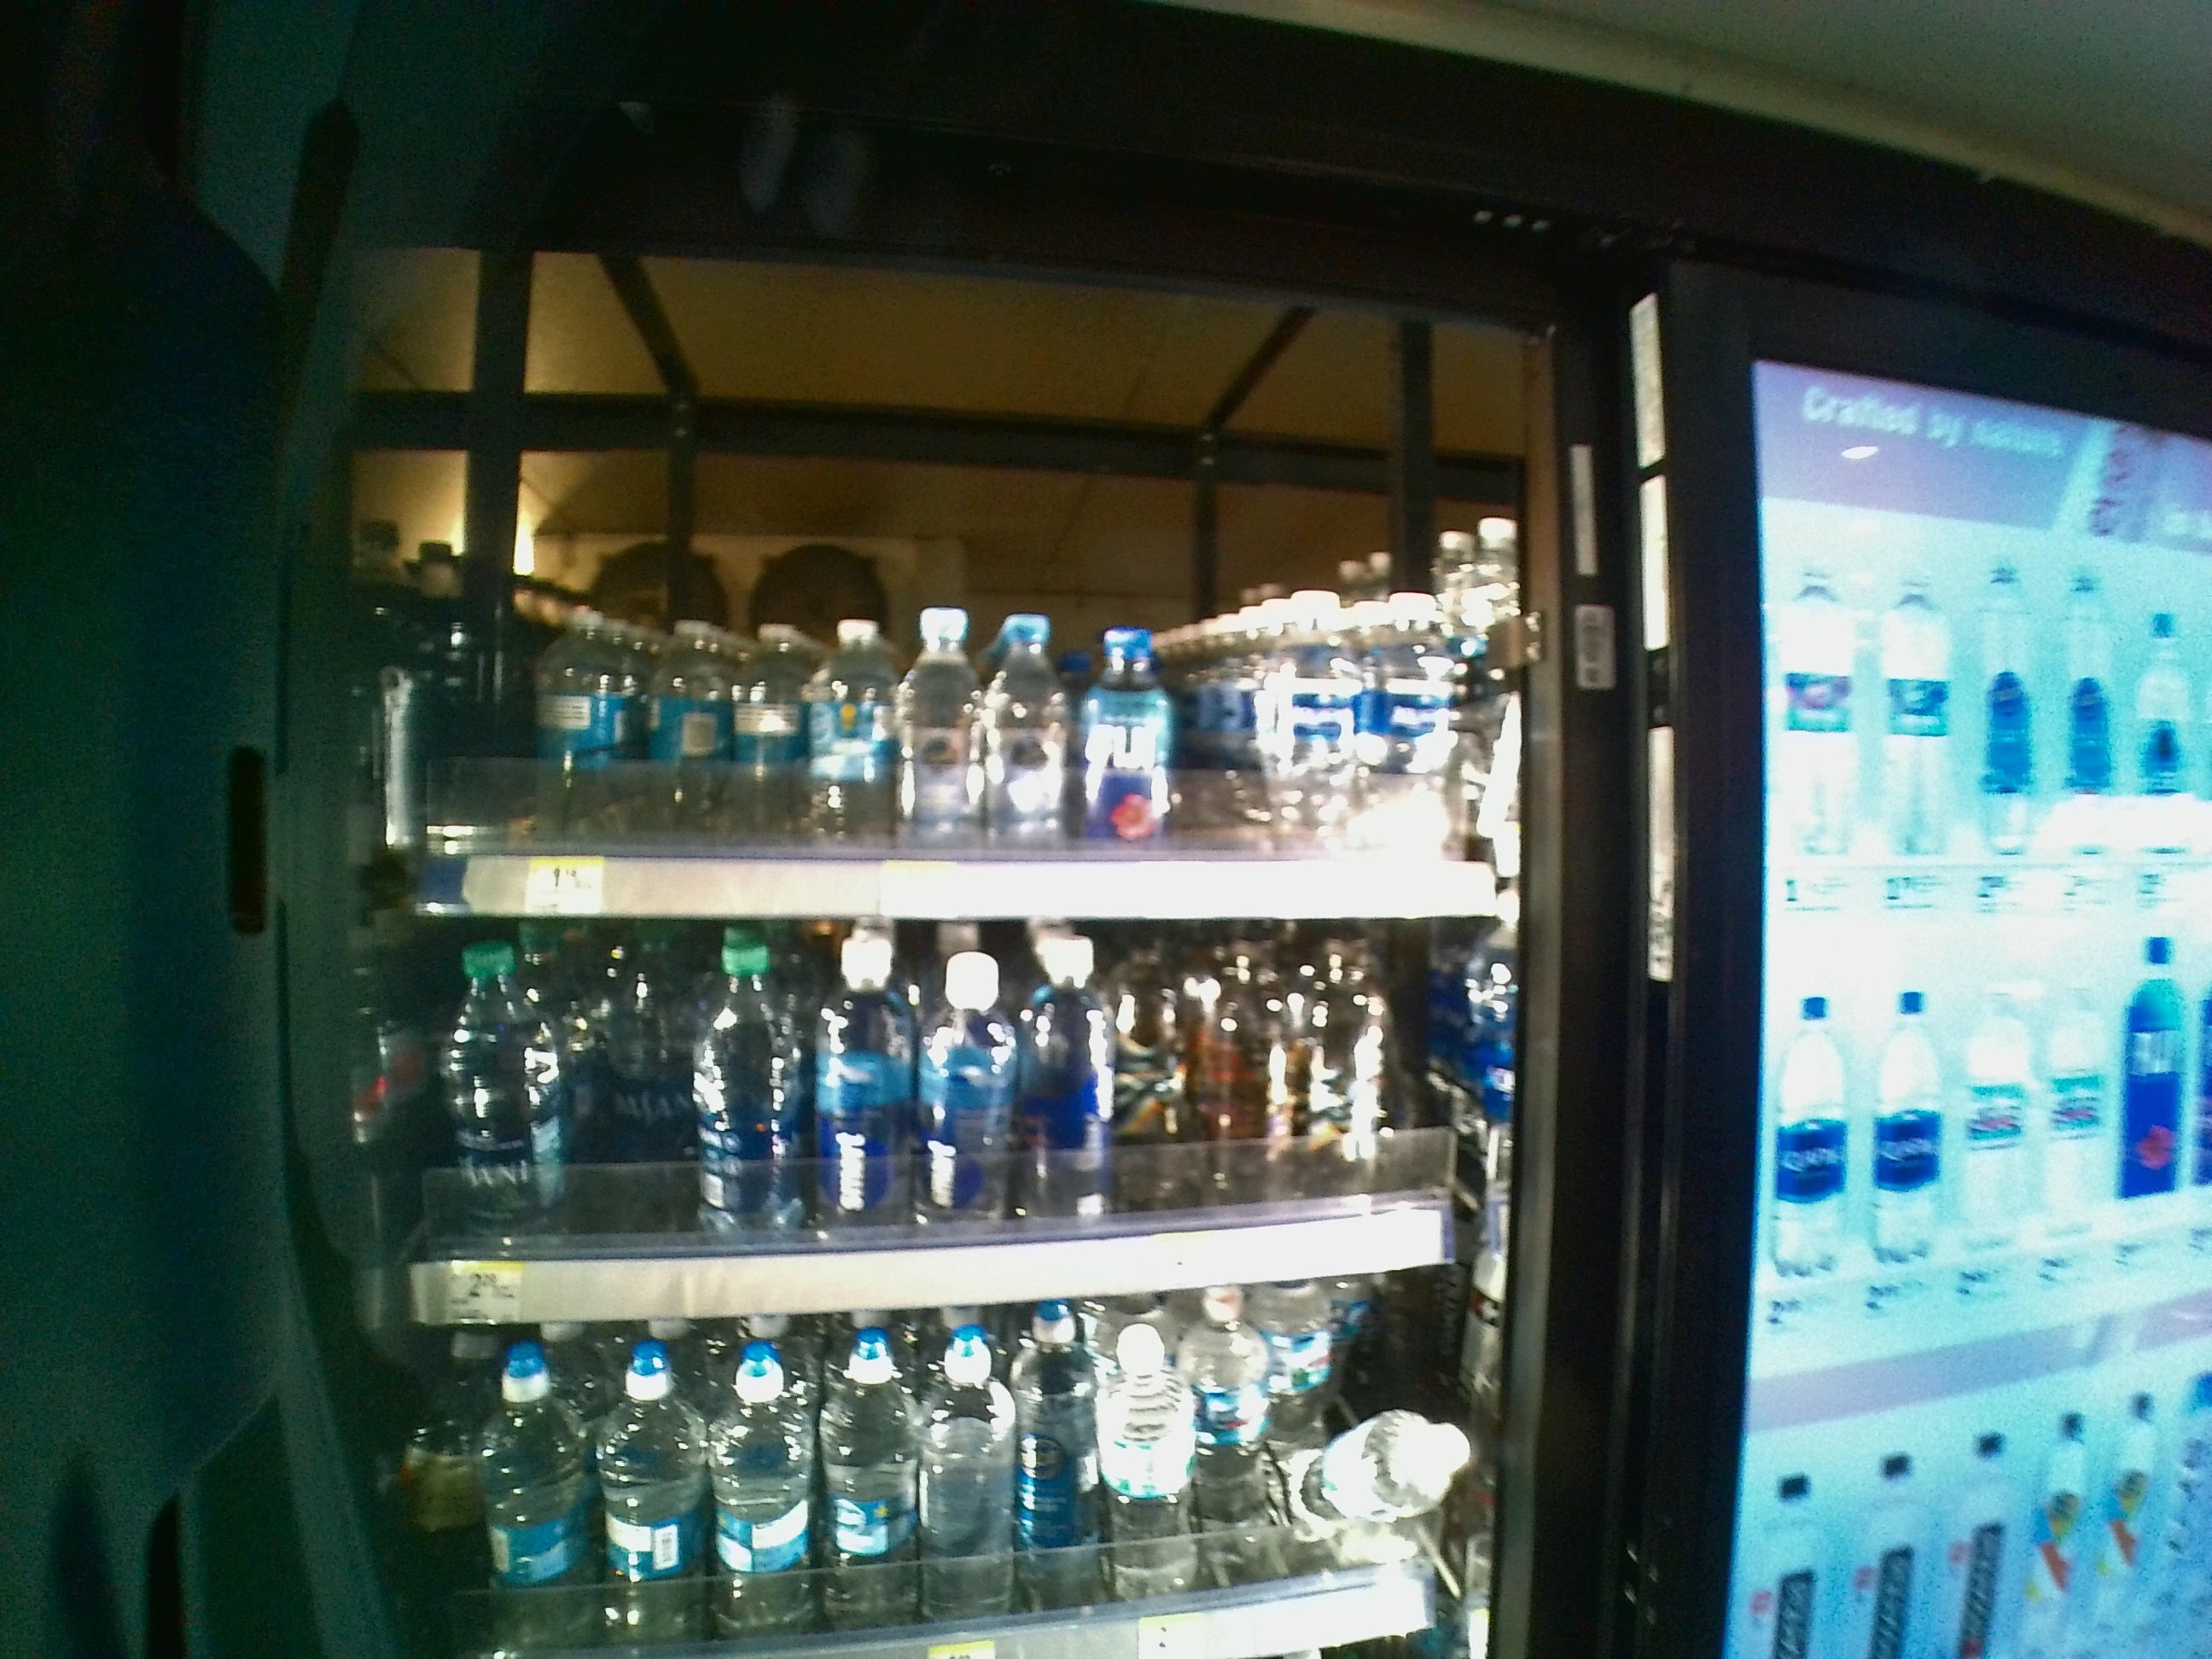shelf: (354, 401, 1550, 922), (350, 915, 1531, 1328)
